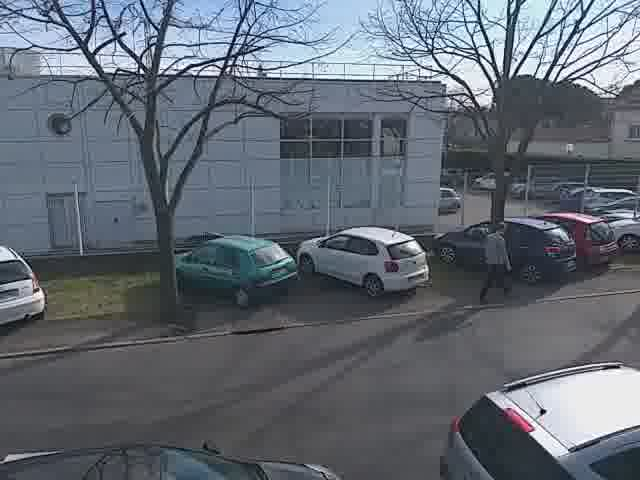persona: (478, 212, 517, 305)
